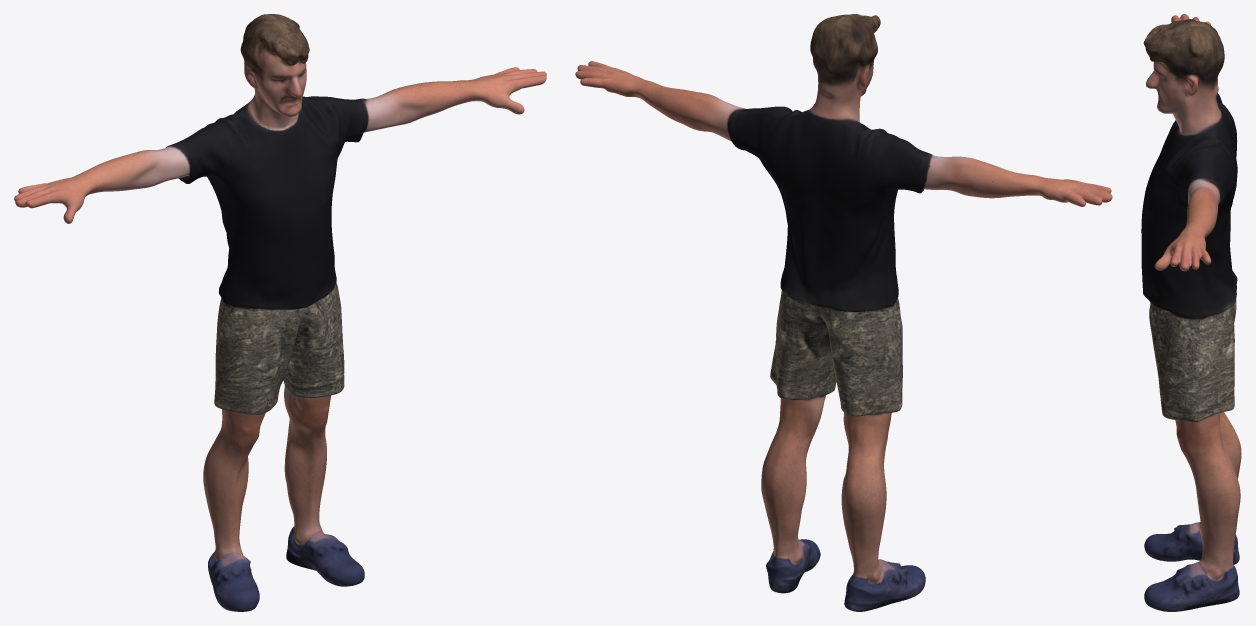
Rendered from mark.glb.
3 renders of one model, left to right at view 1: azimuth 30°, elevation 25°; view 2: azimuth 150°, elevation 25°; view 3: azimuth 270°, elevation 25°, orthographic. The views are drawn at different scales.
Visible parts, largest first — view 1: world; view 2: world; view 3: world.
Part boxes in pixels (x1,y1,x2,y2): world: (14,14,546,611); world: (575,14,1112,611); world: (1141,14,1241,611).
Bounding box in the file's own units: 0.978 × 1 × 0.1637.
Materials: 1 (1 with a texture image).
